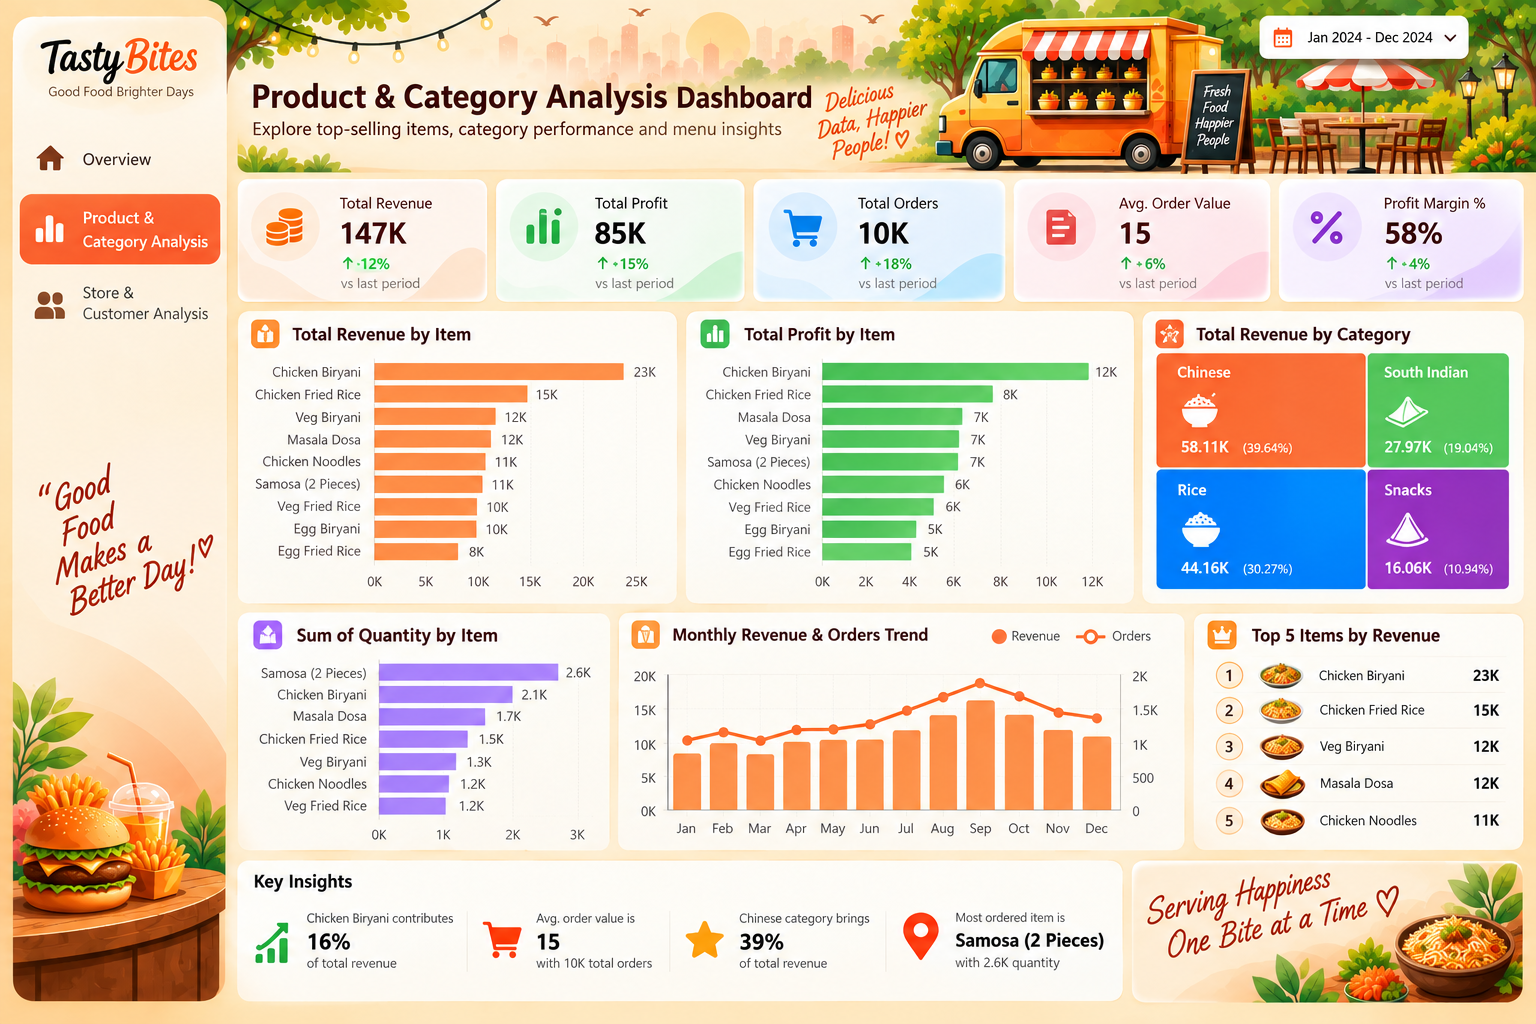

The page's visual inventory and layout, read from the dashboard file:
{"tool":"powerbi","page":{"name":"Page 2","canvas":[1280,720],"ordinal":1},"visuals":[{"type":"clusteredBarChart","fields":{"Category":["Sales.Item"],"Y":["Sales.Total Revenue"]},"box":[148.2,172.9,455.6,279.9],"z":0},{"type":"clusteredBarChart","fields":{"Category":["Sales.Item"],"Y":["Sales.Total Profit"]},"box":[432.2,432.2,456,280],"z":1000},{"type":"clusteredBarChart","fields":{"Category":["Sales.Item"],"Y":["Sum(Sales.Qty)"]},"box":[787.7,188,455.6,249.7],"z":2000},{"type":"treemap","fields":{"Group":["Sales.Category"],"Values":["Sales.Total Revenue"]},"box":[957.8,447.3,323,250],"z":3000},{"type":"advanceCardE03760C5AB684758B56AA29F9E6C257B","fields":{"mainMeasure":["NYC_Street_Bites_Synthetic_Dataset_1.Total Revenue"]},"box":[24.7,54.9,279.9,101.5],"z":4000},{"type":"advanceCardE03760C5AB684758B56AA29F9E6C257B","fields":{"mainMeasure":["Sales.Total Profit"]},"box":[292.3,54.9,279.9,101.5],"z":5000},{"type":"advanceCardE03760C5AB684758B56AA29F9E6C257B","fields":{"mainMeasure":["DateTable.Total Orders"]},"box":[483,86.4,279.9,101.5],"z":6000},{"type":"advanceCardE03760C5AB684758B56AA29F9E6C257B","fields":{"mainMeasure":["Avg(Sales.Average Order value)"]},"box":[724.5,70,279.9,101.5],"z":7000},{"type":"advanceCardE03760C5AB684758B56AA29F9E6C257B","fields":{"mainMeasure":["Sales.Profit Mergin %"]},"box":[1015.2,46.7,264.8,124.9],"z":8000}]}

Visuals, with their boxes on the page's 1280x720 design canvas (x1, y1, x2, y2). These are canvas units, not pixel positions in the 1536x1024 screenshot, which may show the page scaled, cropped or inside an application window:
clusteredBarChart - Sales.Item x Sales.Total Revenue: (left=148, top=173, right=604, bottom=453)
clusteredBarChart - Sales.Item x Sales.Total Profit: (left=432, top=432, right=888, bottom=712)
clusteredBarChart - Sales.Item x Sum(Sales.Qty): (left=788, top=188, right=1243, bottom=438)
treemap - Sales.Category x Sales.Total Revenue: (left=958, top=447, right=1281, bottom=697)
advanceCardE03760C5AB684758B56AA29F9E6C257B - NYC_Street_Bites_Synthetic_Dataset_1.Total Revenue: (left=25, top=55, right=305, bottom=156)
advanceCardE03760C5AB684758B56AA29F9E6C257B - Sales.Total Profit: (left=292, top=55, right=572, bottom=156)
advanceCardE03760C5AB684758B56AA29F9E6C257B - DateTable.Total Orders: (left=483, top=86, right=763, bottom=188)
advanceCardE03760C5AB684758B56AA29F9E6C257B - Avg(Sales.Average Order value): (left=724, top=70, right=1004, bottom=172)
advanceCardE03760C5AB684758B56AA29F9E6C257B - Sales.Profit Mergin %: (left=1015, top=47, right=1280, bottom=172)
